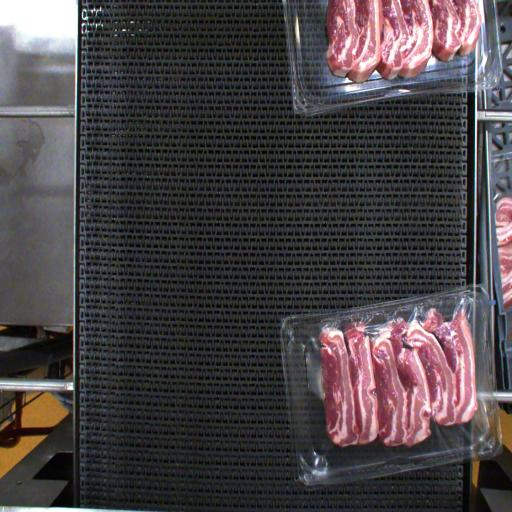unsealed: (294, 290, 485, 392)
